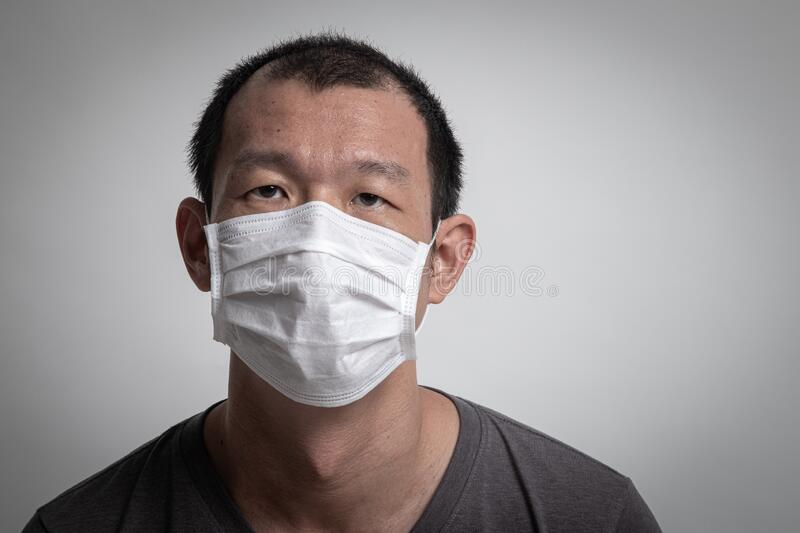surgical: (182, 200, 442, 414)
